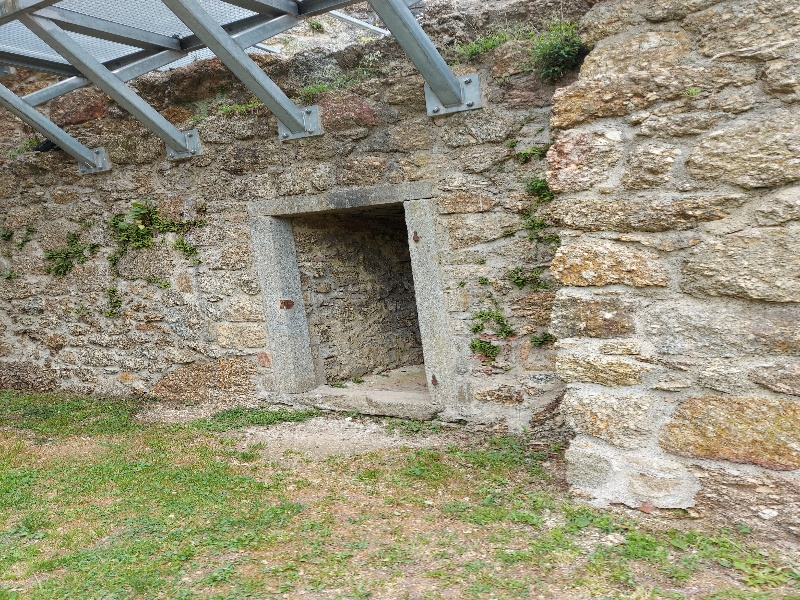door1: (243, 187, 469, 435)
